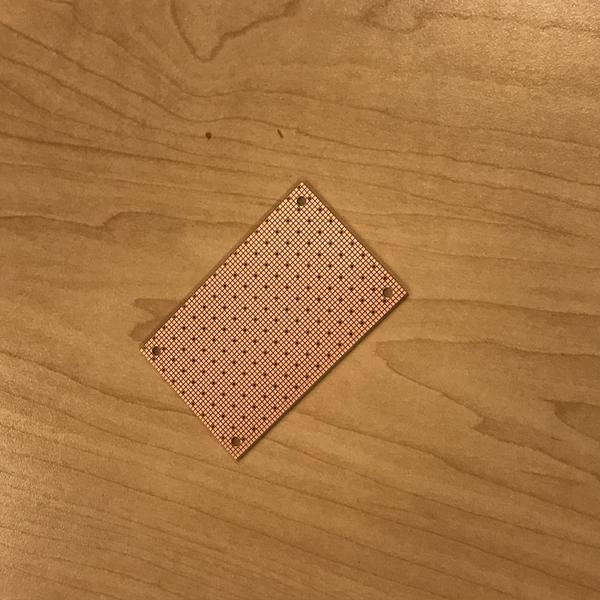board: (132, 175, 414, 466)
